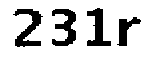1: (84, 6, 115, 51)
2: (10, 8, 44, 48)
3: (47, 7, 81, 50)
r: (116, 15, 142, 51)
